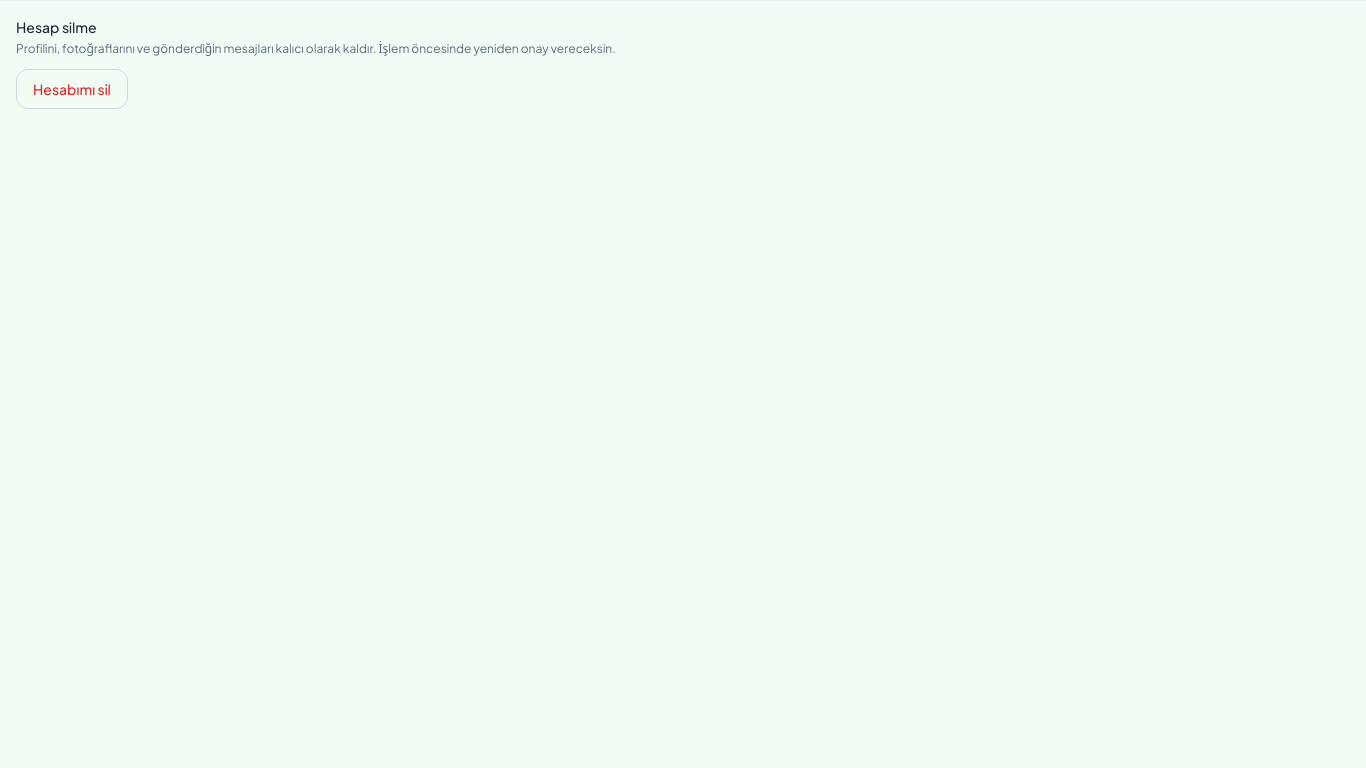
does not call deletion on open, requires exact text and keeps failure dialog open
Click the button "Hesabımı sil" at (72, 89), box x1=16 y1=69 x2=128 y2=109
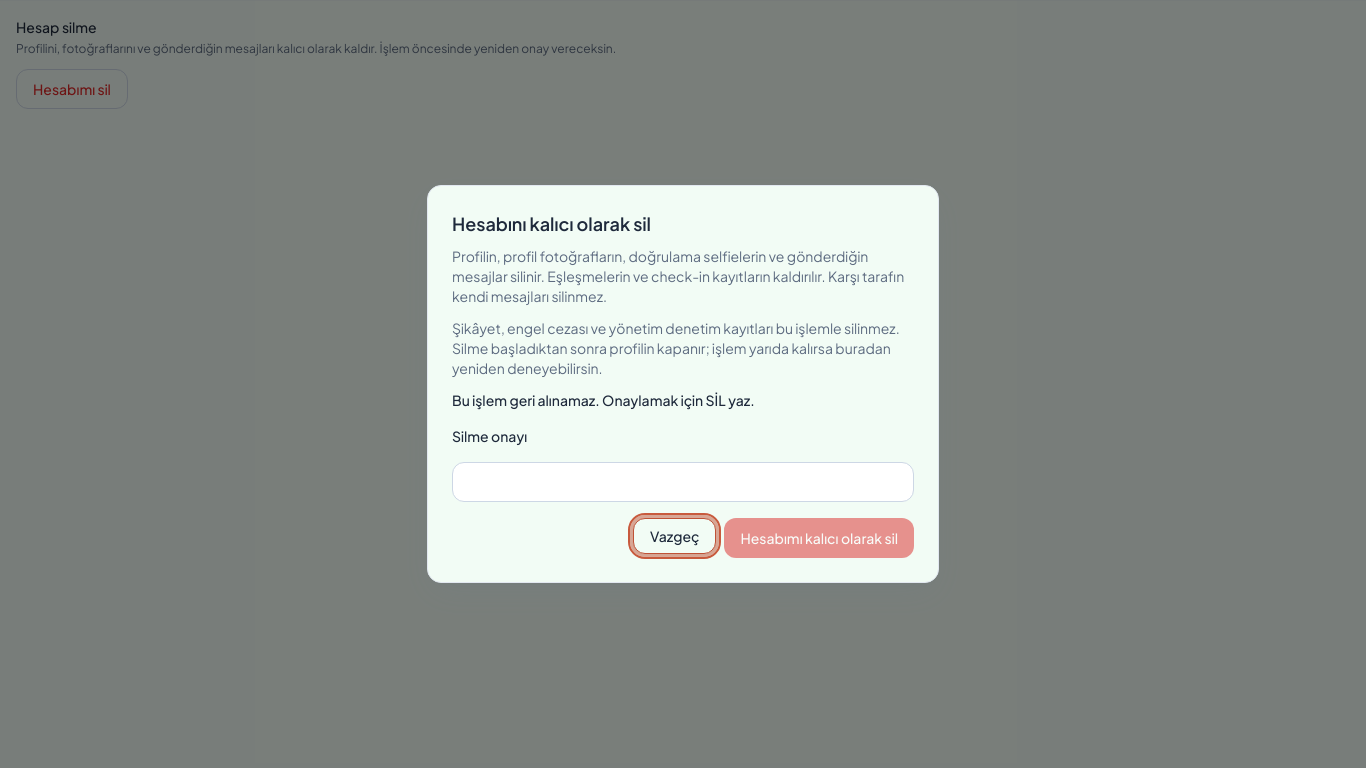
expect the dialog is shown: met, box x1=427 y1=185 x2=939 y2=583
expect the button "Hesabımı kalıcı olarak sil" is disabled: met, box x1=724 y1=518 x2=914 y2=558
Type "sil" into the field labelled "Silme onayı" at (683, 482), box x1=452 y1=462 x2=914 y2=502
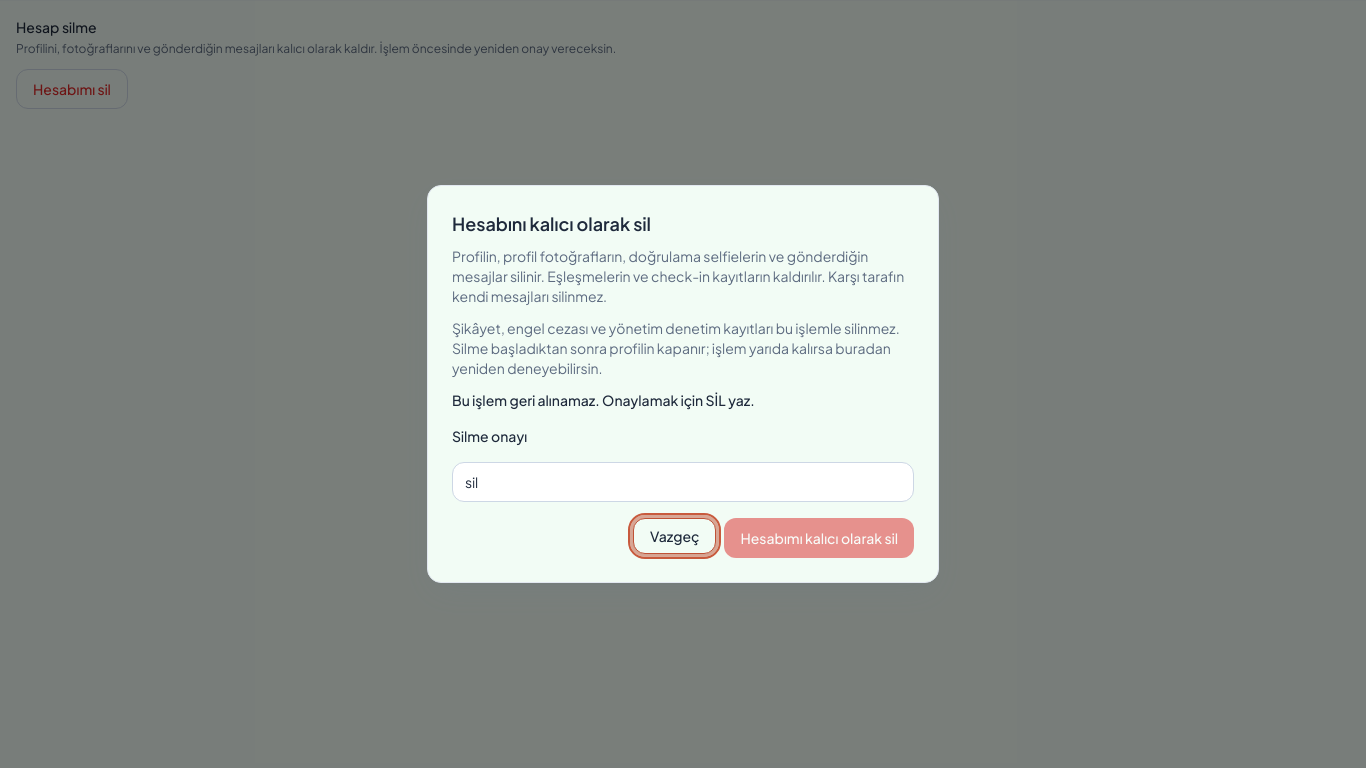
expect the button "Hesabımı kalıcı olarak sil" is disabled: met, box x1=724 y1=518 x2=914 y2=558
Replace the text in the field labelled "Silme onayı" with "SİL" at (683, 482), box x1=452 y1=462 x2=914 y2=502
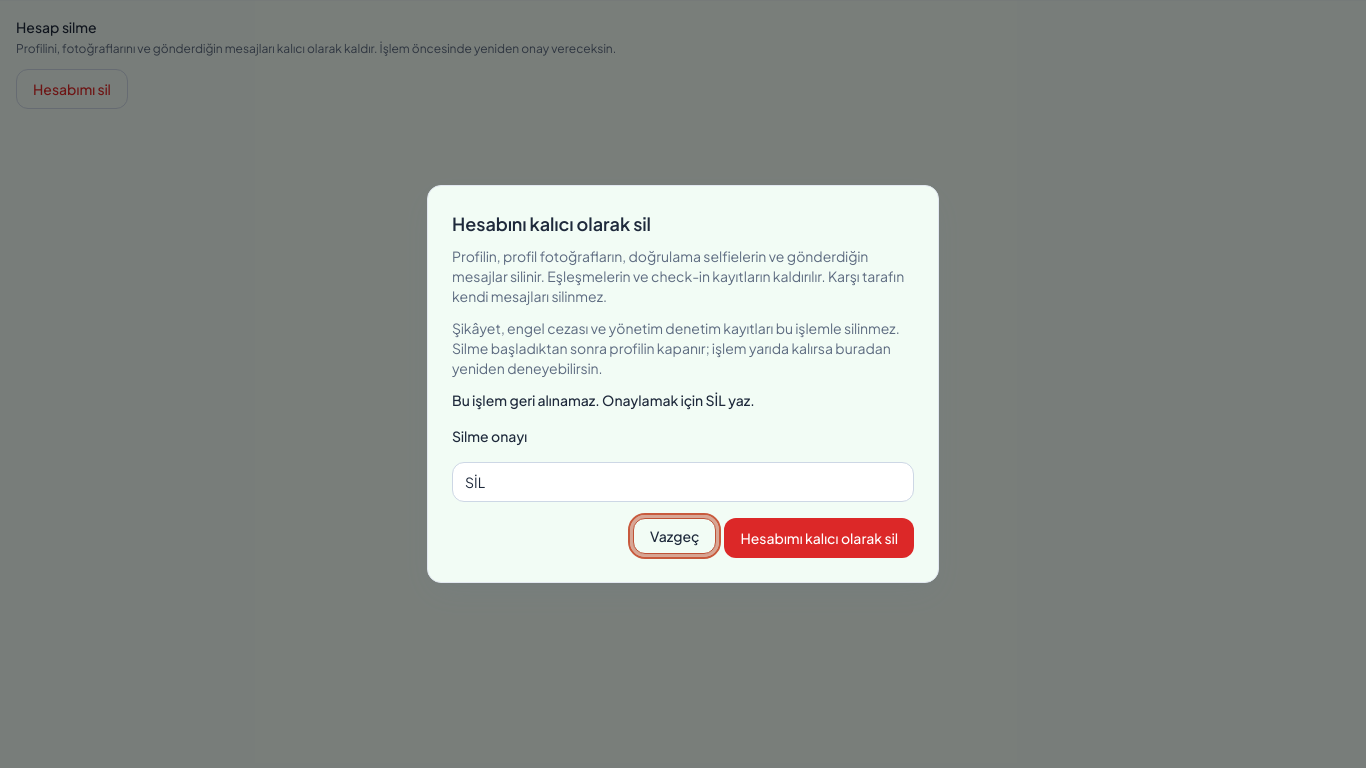
Click the button "Hesabımı kalıcı olarak sil" at (819, 538), box x1=724 y1=518 x2=914 y2=558
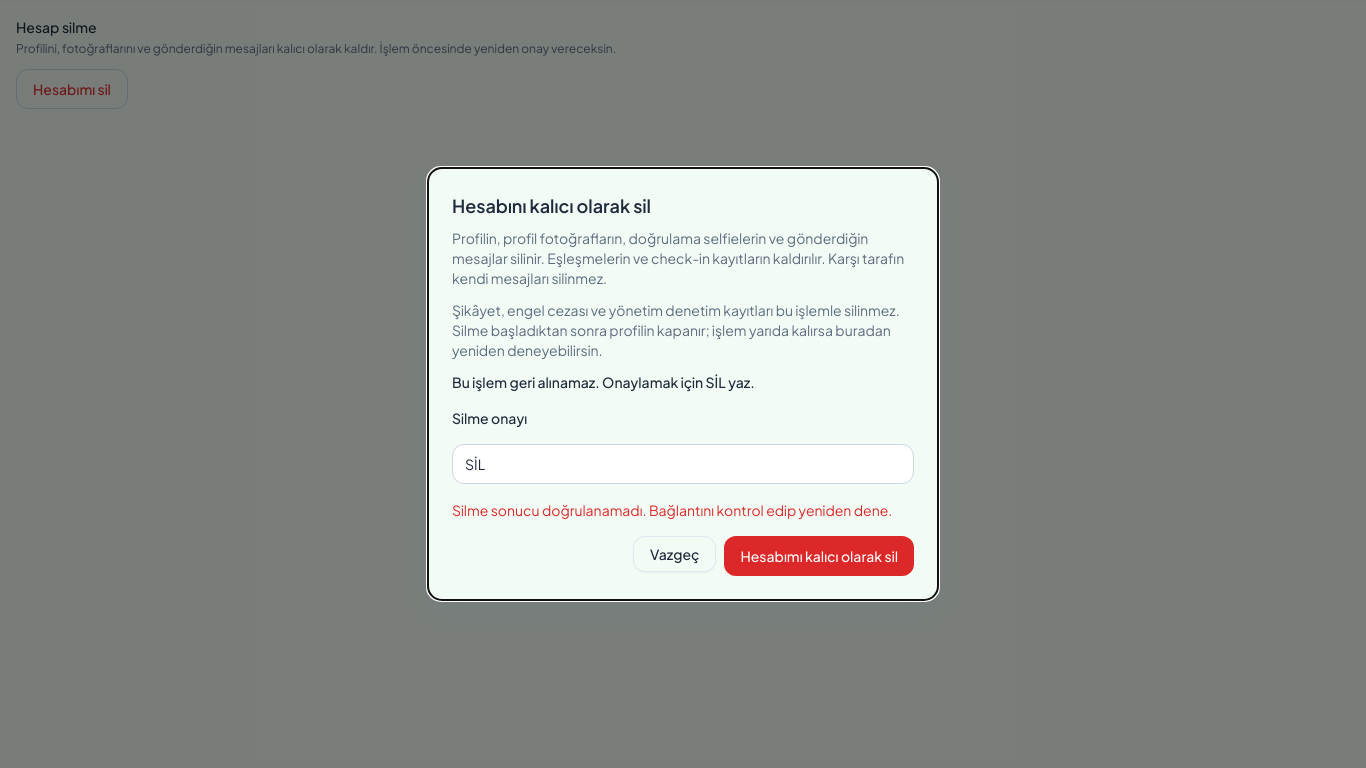
expect the dialog is shown: met, box x1=427 y1=167 x2=939 y2=601
expect the message "Silme sonucu doğrulanamadı. Bağlantını kontrol edip yeniden dene." is shown: met, box x1=452 y1=500 x2=914 y2=520
